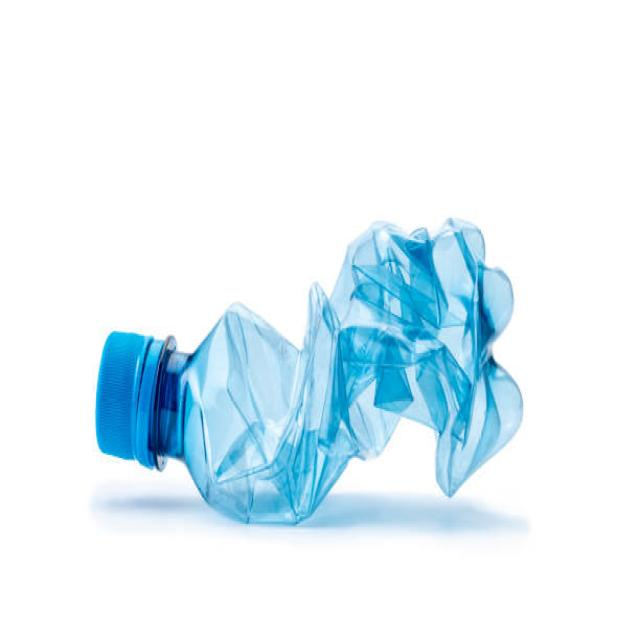plastic: (93, 204, 545, 522)
